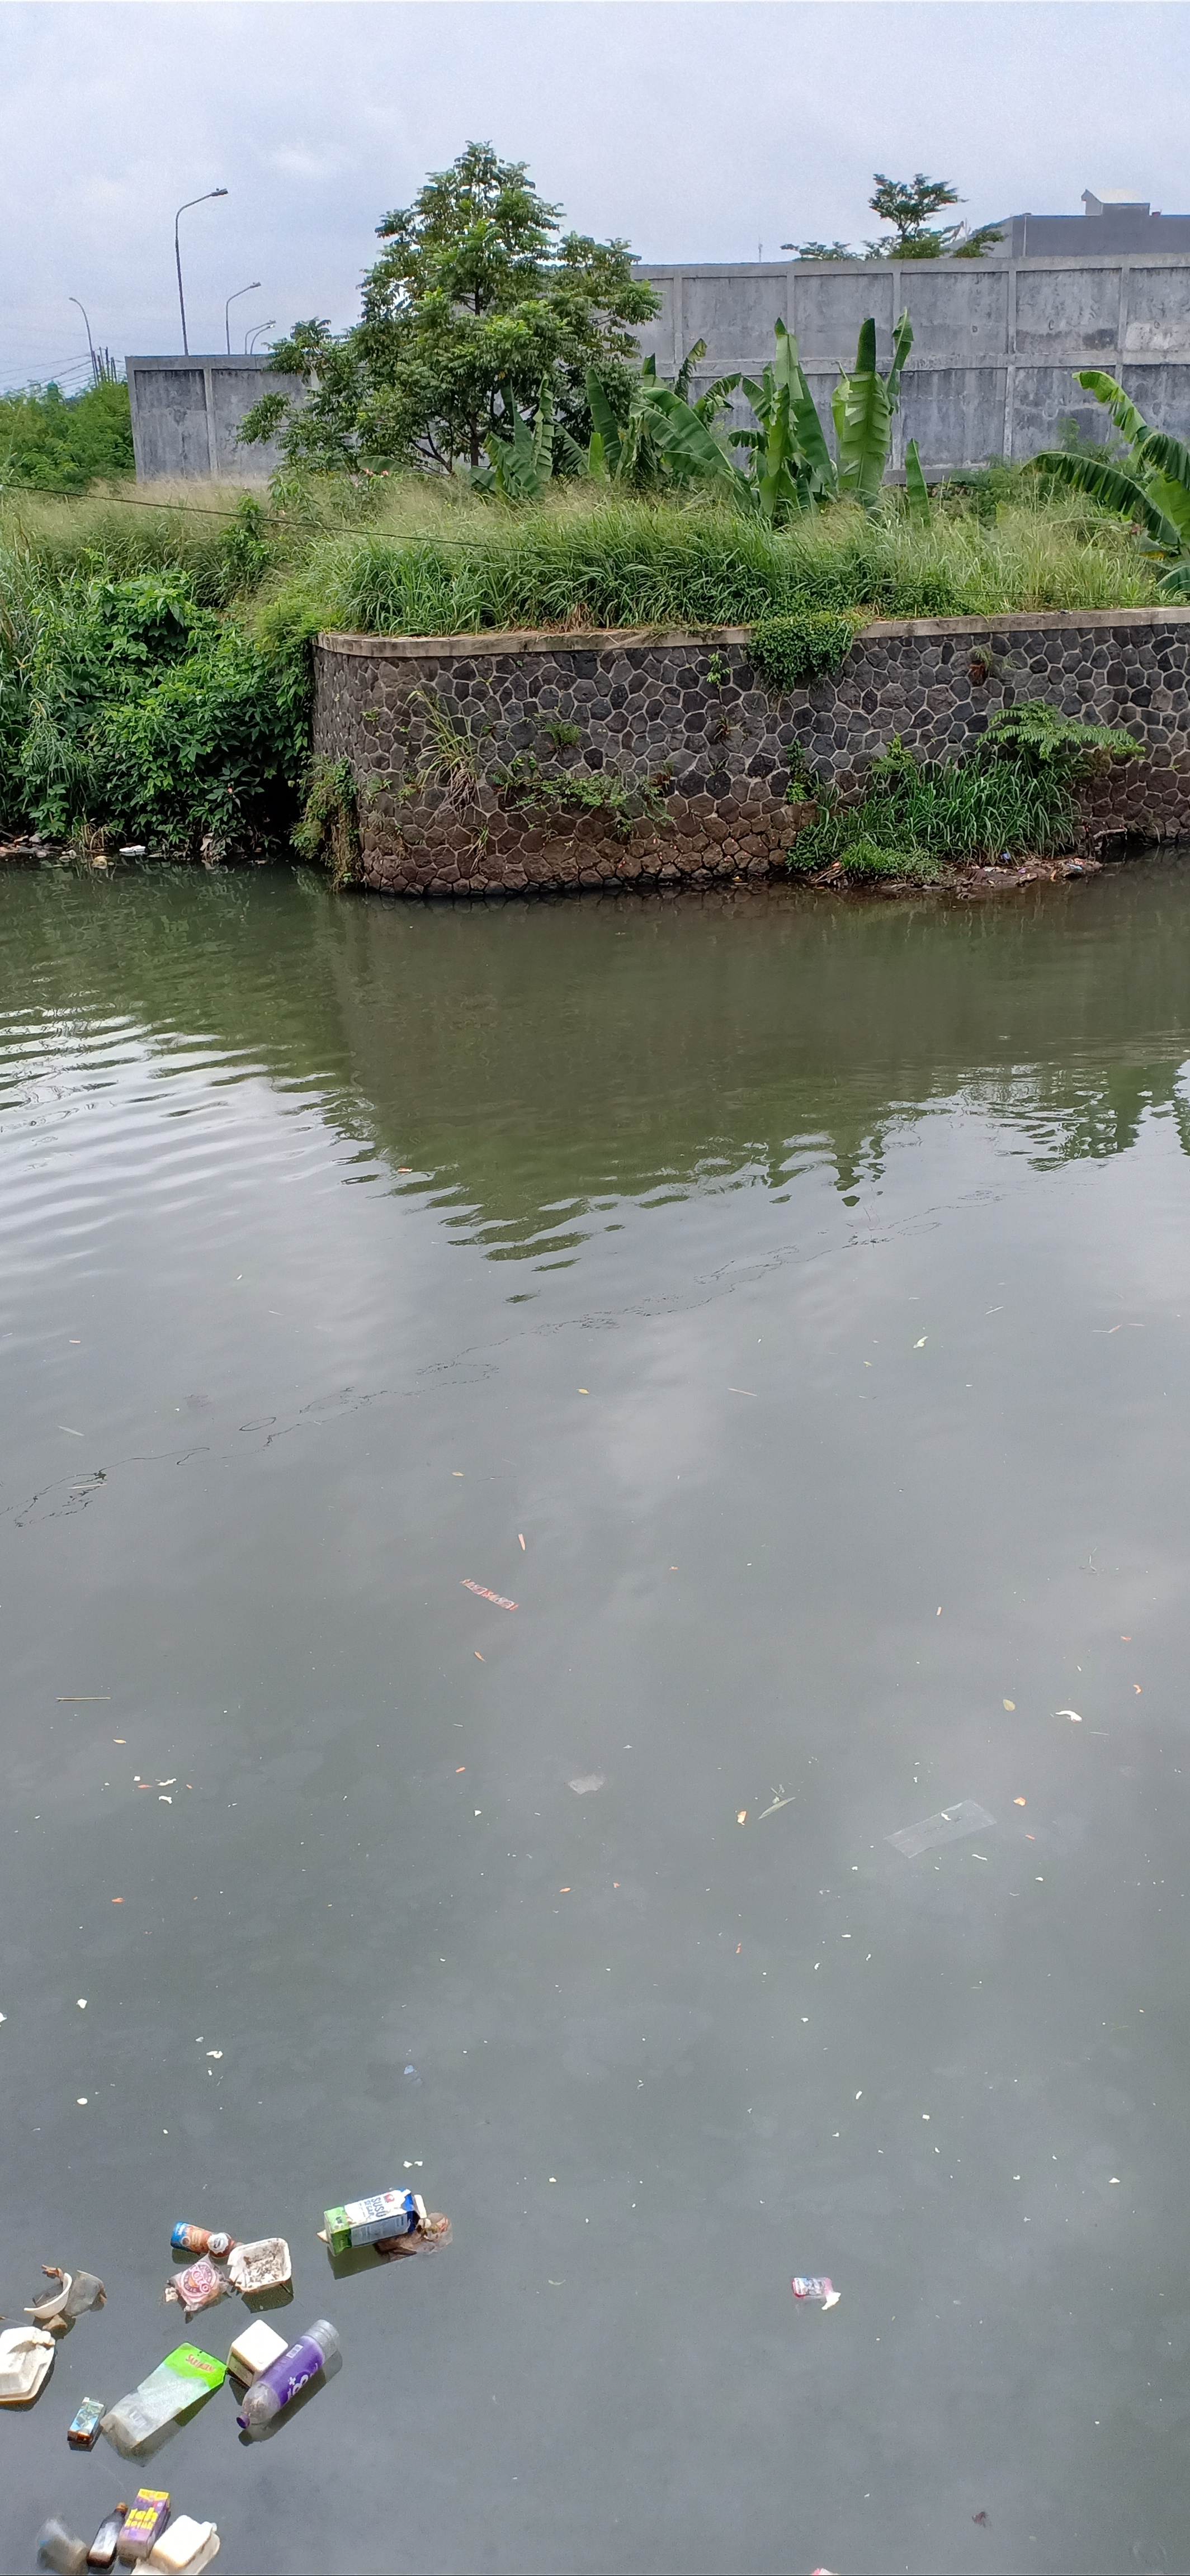Plastic Bottle: (237, 2318, 342, 2430), (85, 2502, 127, 2569), (169, 2221, 243, 2257), (118, 843, 145, 854), (731, 876, 741, 882)
